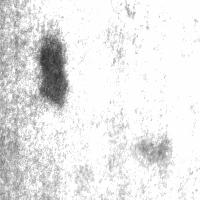patches: (44, 123, 190, 200), (157, 50, 200, 120), (38, 34, 69, 109)
